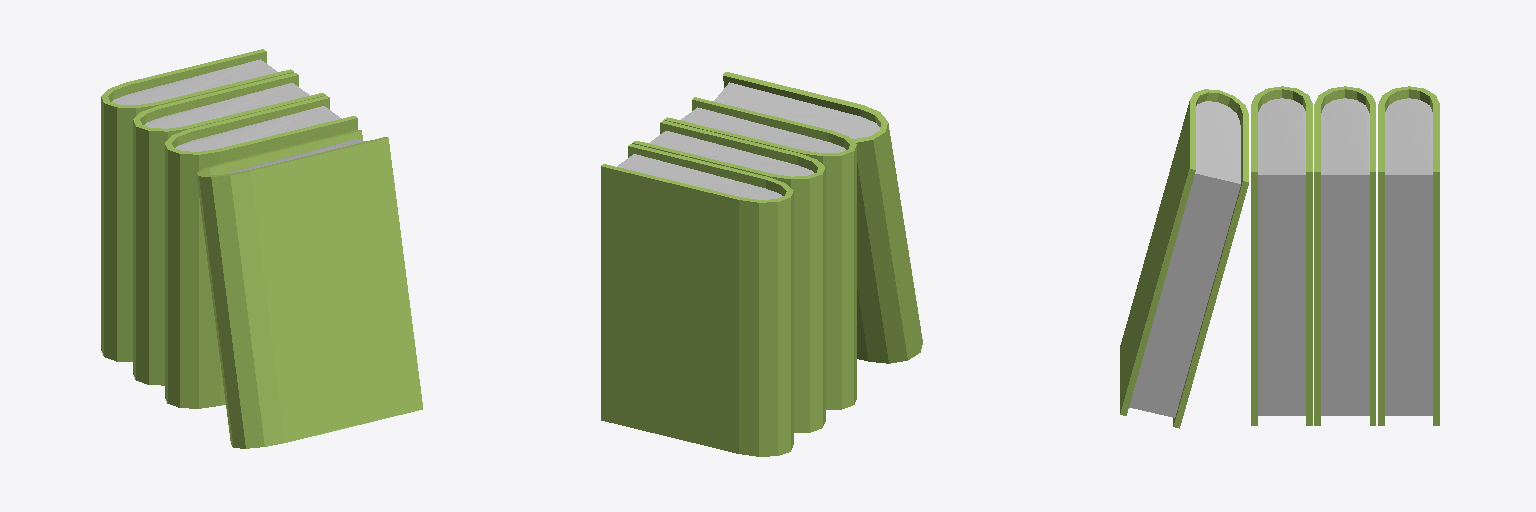
3 views of the same model, side by side, from view 1: azimuth 30°, elevation 25°; view 2: azimuth 150°, elevation 25°; view 3: azimuth 270°, elevation 25° (orthographic).
Visible parts, largest first — view 1: Books; view 2: Books; view 3: Books.
Part boxes in pixels (x1,y1,x2,y2): Books: (101,49,422,448); Books: (601,72,922,456); Books: (1120,86,1439,428).
Size of the model in its own units: 2.03 by 2.88 by 3.22.
Materials: 2 (1 with a texture image).